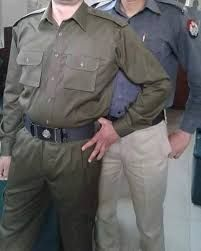uniform: (3, 7, 113, 239)
